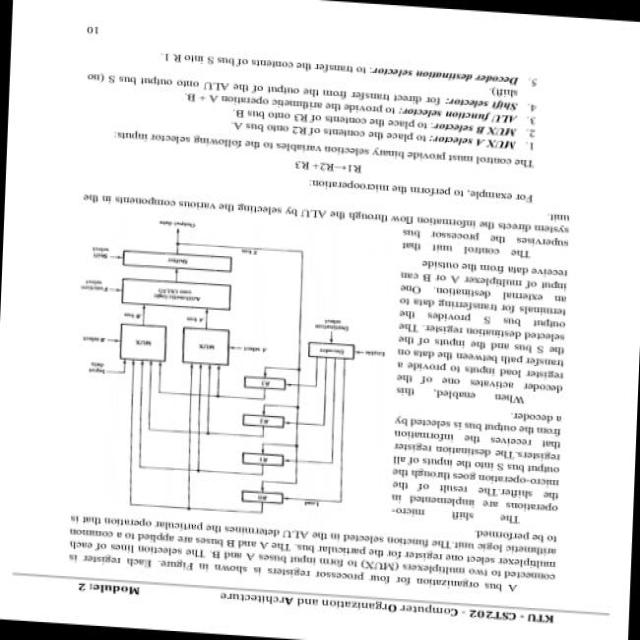Figure Detection - v3 Dataset Version2: (52, 207, 396, 530)
